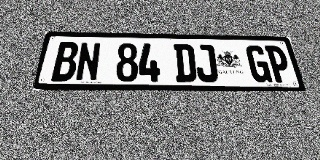4: (138, 43, 160, 82)
8: (116, 43, 138, 82)
B: (51, 42, 79, 81)
D: (174, 44, 197, 82)
G: (245, 45, 273, 83)
J: (194, 44, 219, 82)
N: (75, 42, 101, 82)
P: (264, 46, 293, 83)
